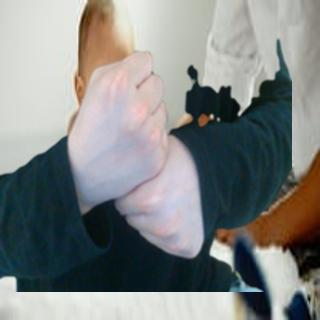CAREFUL: (66, 45, 205, 269)
